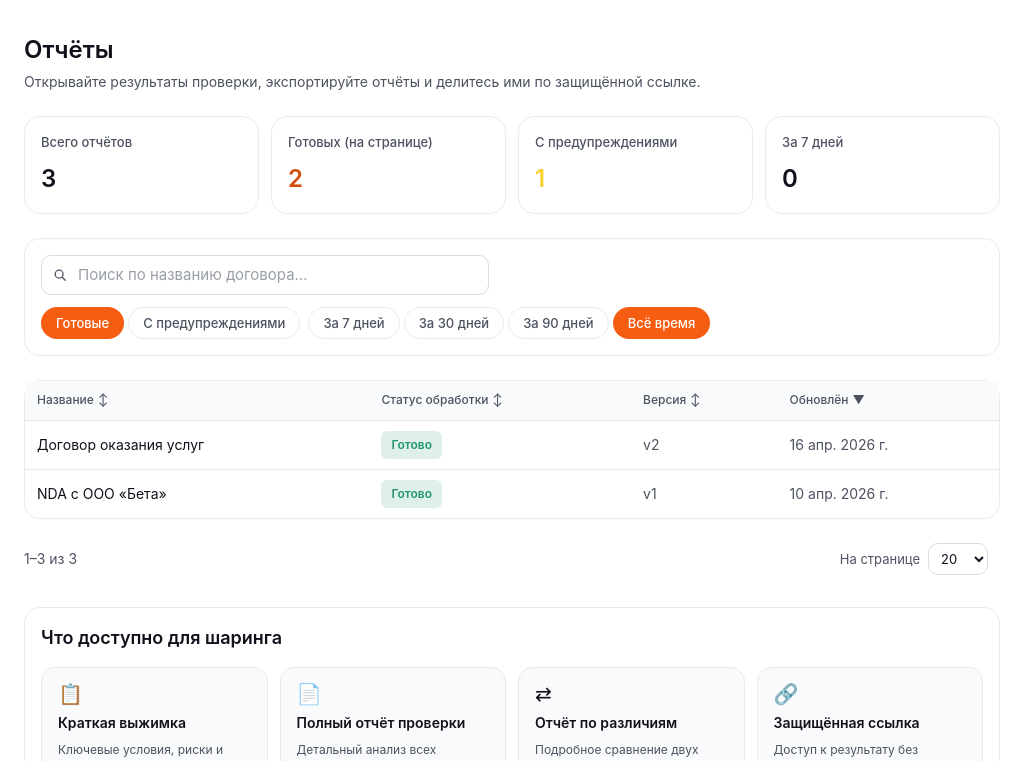
it: ReportsPage › Risk — row select → риск-профиль в detail-panel через useRisks
This screenshot has width=1024, height=761.
Expected: the link "Договор оказания услуг" is shown, 37,436 -> 204,453
Click the row with test id "reports-table-row-c1": (512, 445) 25,420 -> 999,470
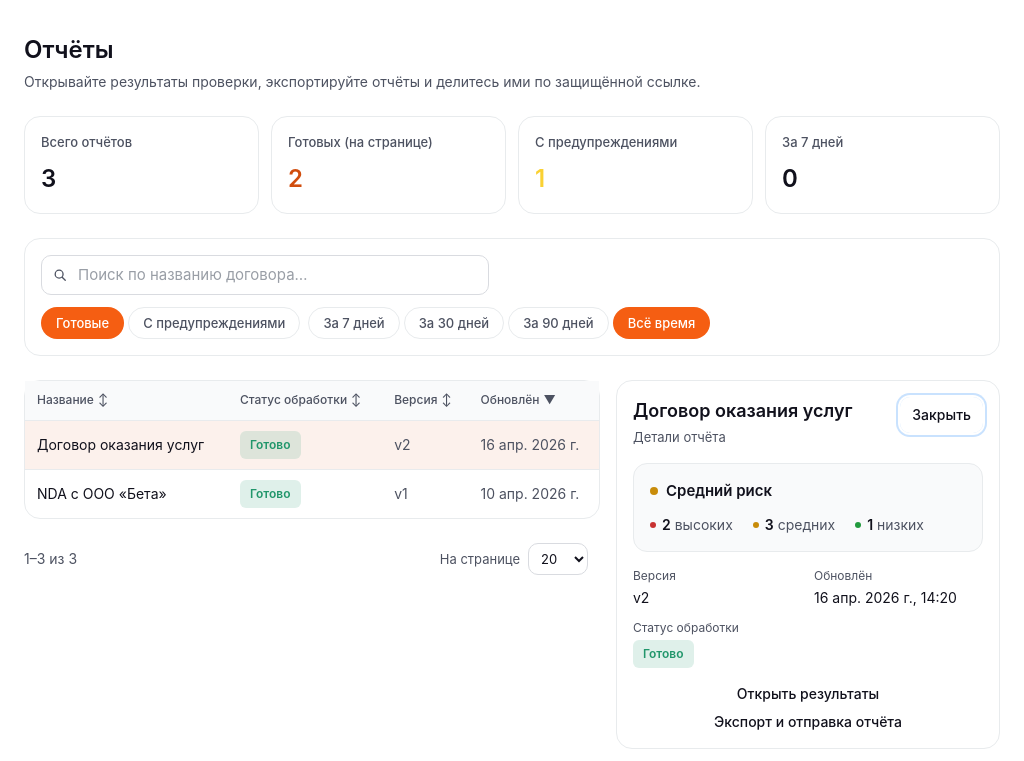
Now the text with test id "report-detail-risk-level" reads "Средний риск", box 666,481 -> 772,500
